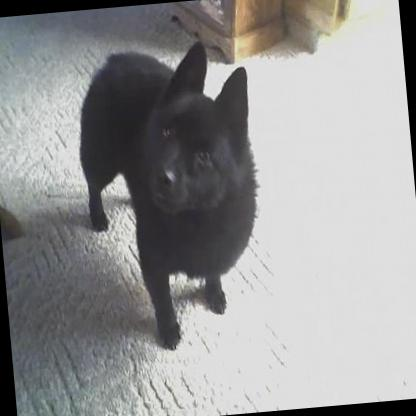schipperke: (68, 34, 272, 358)
